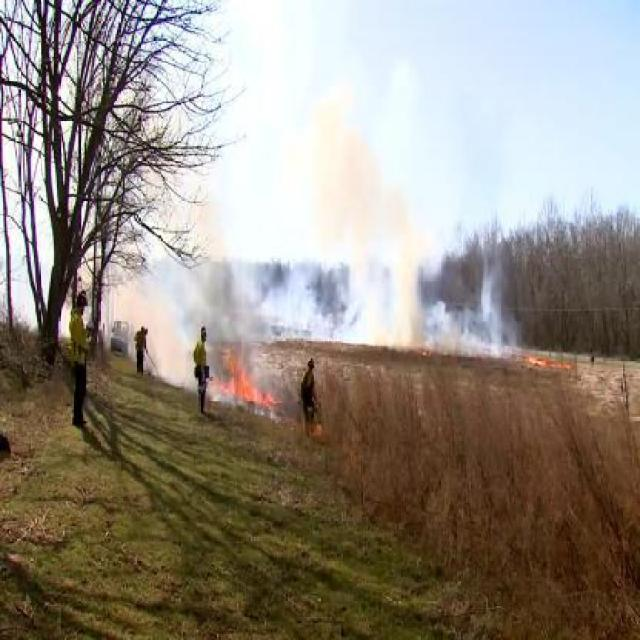Fire: (210, 346, 276, 404), (528, 354, 550, 366), (555, 358, 571, 370), (556, 360, 573, 371)
